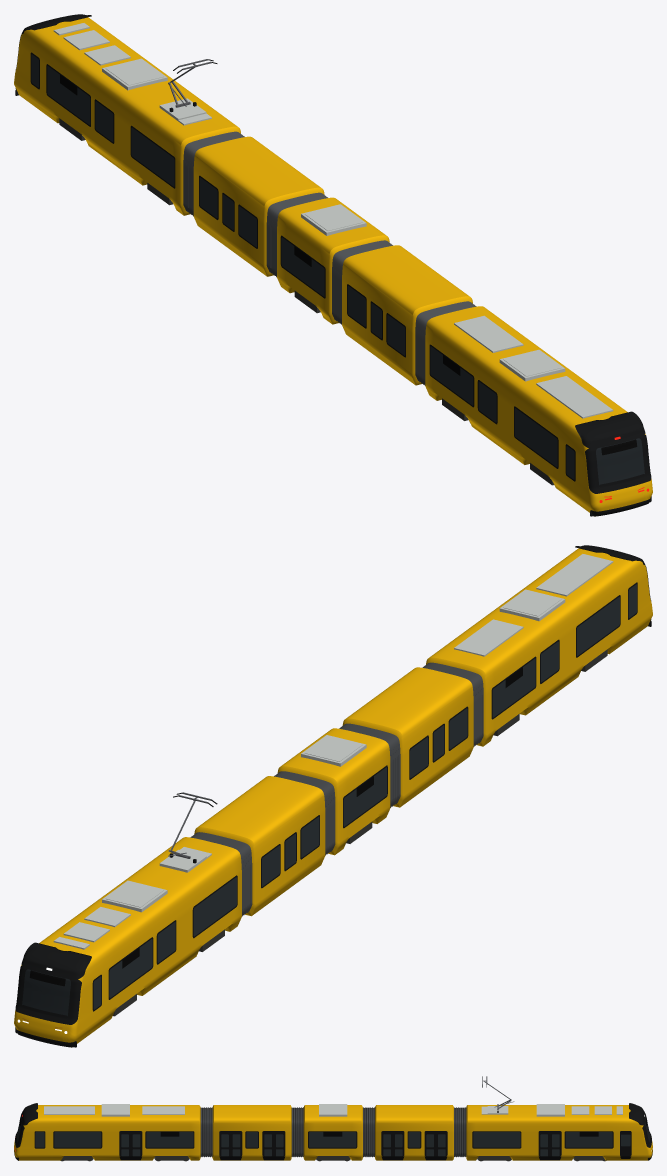
Rendered from tram_dxdd.glb.
3 views of the same model, one above another, from view 1: azimuth 30°, elevation 25°; view 2: azimuth 150°, elevation 25°; view 3: azimuth 270°, elevation 25° (orthographic). The views are drawn at different scales.
Parts seen in each view (by area): view 1: Body_0, Body_4, Detail_4, Detail_0, Body_1, Body_3, Body_2, Detail_2, Detail_1, Detail_3; view 2: Detail_0, Body_0, Body_4, Detail_4, Body_3, Body_1, Body_2, Detail_2, Detail_3, Detail_1; view 3: Body_0, Body_4, Detail_0, Detail_4, Body_3, Body_1, Detail_3, Detail_1, Body_2, Detail_2.
Part boxes in pixels (x1,y1,x2,y2): Body_0: (14,17,240,215); Body_4: (425,306,652,512); Detail_4: (429,315,651,516); Detail_0: (15,14,244,216); Body_1: (193,136,324,276); Body_3: (342,245,472,385); Body_2: (277,197,389,324); Detail_2: (280,204,392,324); Detail_1: (199,175,327,277); Detail_3: (347,284,476,385); Detail_0: (15,792,252,1047); Body_0: (14,837,241,1043); Body_4: (426,548,652,746); Detail_4: (454,545,651,736); Body_3: (342,667,473,807); Body_1: (194,776,325,916); Body_2: (277,728,390,855); Detail_2: (301,723,400,843); Detail_3: (409,662,483,779); Detail_1: (261,771,335,888); Body_0: (466,1105,652,1160); Body_4: (14,1105,200,1160); Detail_0: (454,1076,652,1161); Detail_4: (14,1103,194,1161); Body_3: (212,1105,291,1160); Body_1: (375,1105,453,1160); Detail_3: (200,1107,285,1160); Detail_1: (363,1107,447,1160); Body_2: (303,1105,362,1160); Detail_2: (291,1104,357,1161).
Size of the model in its own units: 2.67 by 5.67 by 43.27.
